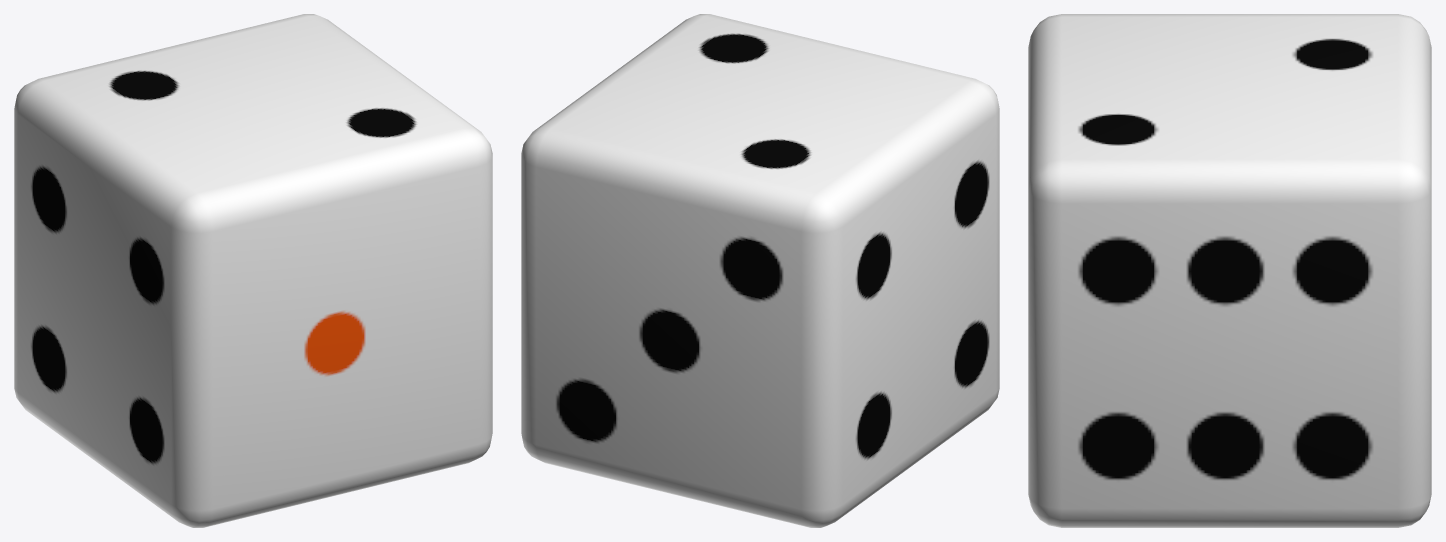
Rendered from zar.fbx.
3 renders of one model, left to right at view 1: azimuth 30°, elevation 25°; view 2: azimuth 150°, elevation 25°; view 3: azimuth 270°, elevation 25°, orthographic. The views are drawn at different scales.
Visible parts, largest first — view 1: zar; view 2: zar; view 3: zar.
Part boxes in pixels (<box>): zar: <box>14,14,492,527</box>; zar: <box>521,14,999,527</box>; zar: <box>1028,14,1431,527</box>.
Bounding box in the file's own units: 200 × 200 × 200.
